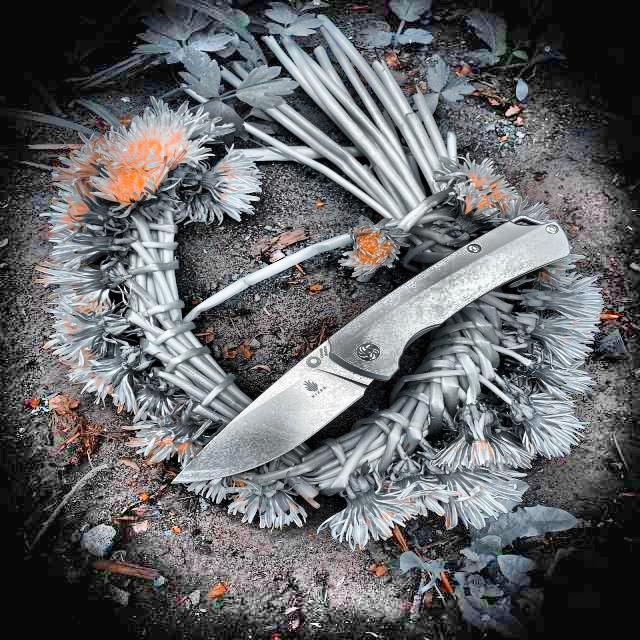knife: (176, 204, 574, 485)
